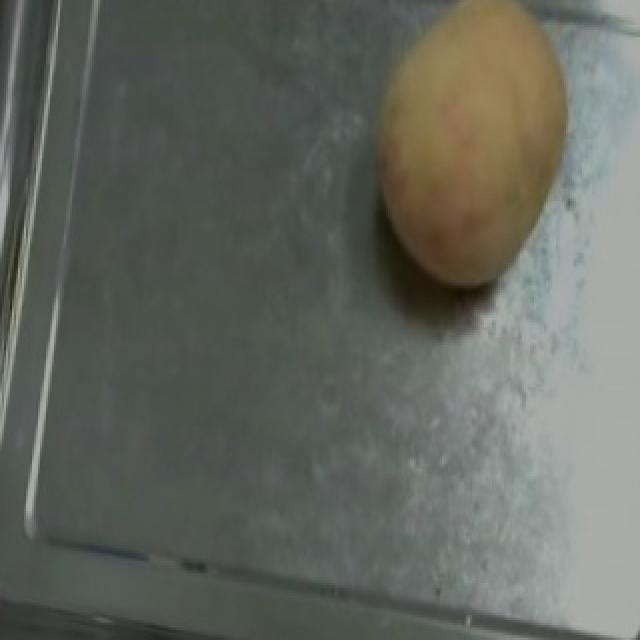Fruit: (342, 0, 602, 318)
